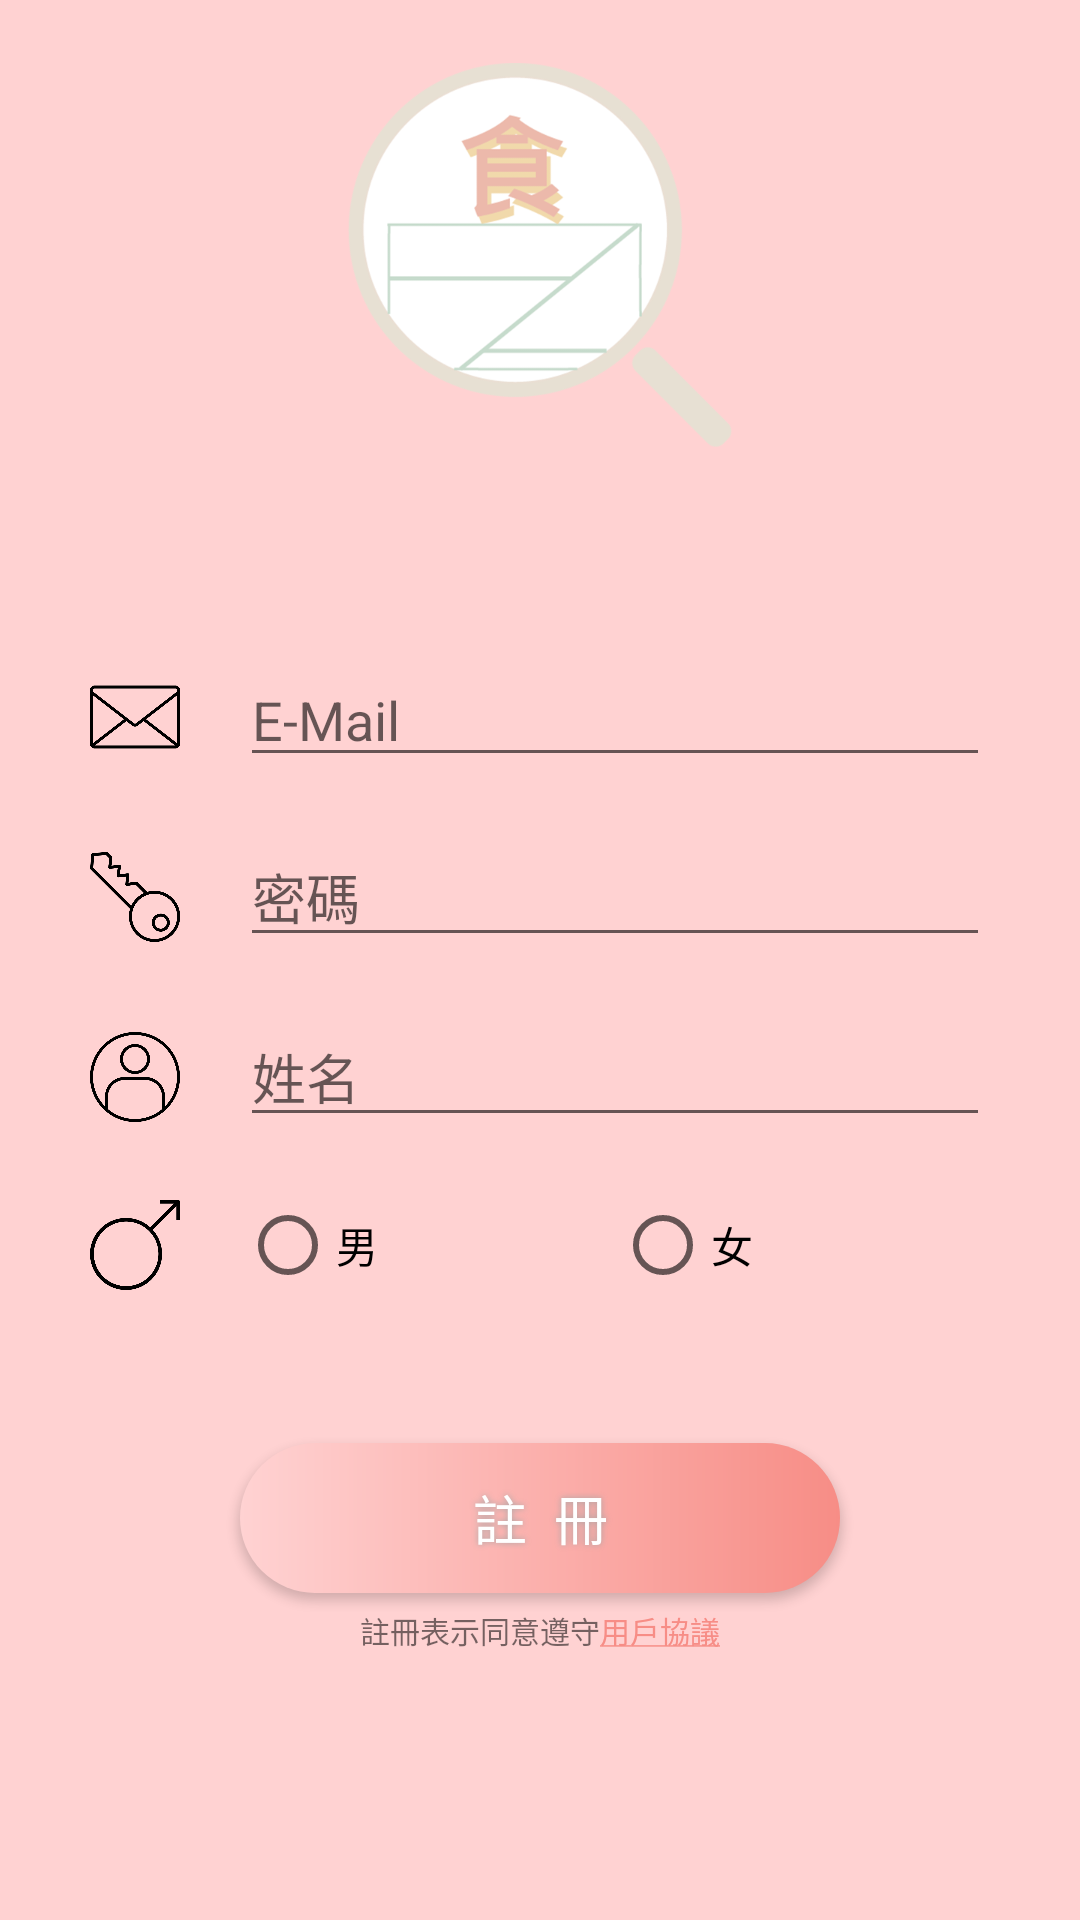

Icons on this 1080 x 1920 Android screen, each with its box as [left=x1, top=y1, right=x2, bottom=y2]:
account: [left=90, top=1032, right=180, bottom=1122]
gender: [left=90, top=1200, right=180, bottom=1290]
key: [left=90, top=852, right=180, bottom=942]
